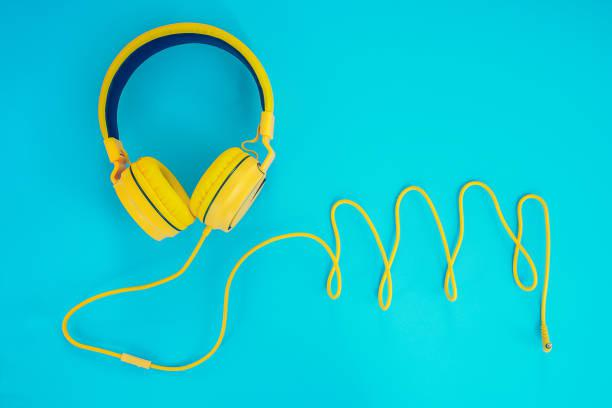headphone: (93, 22, 286, 254)
